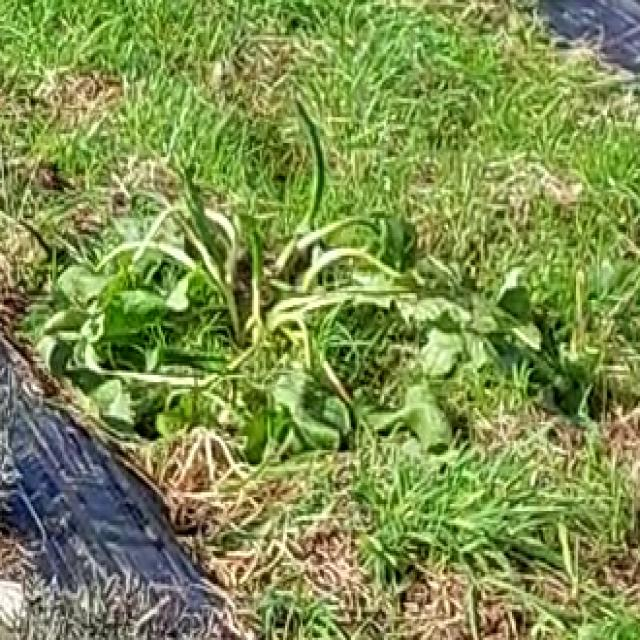organic waste: (44, 122, 592, 478)
